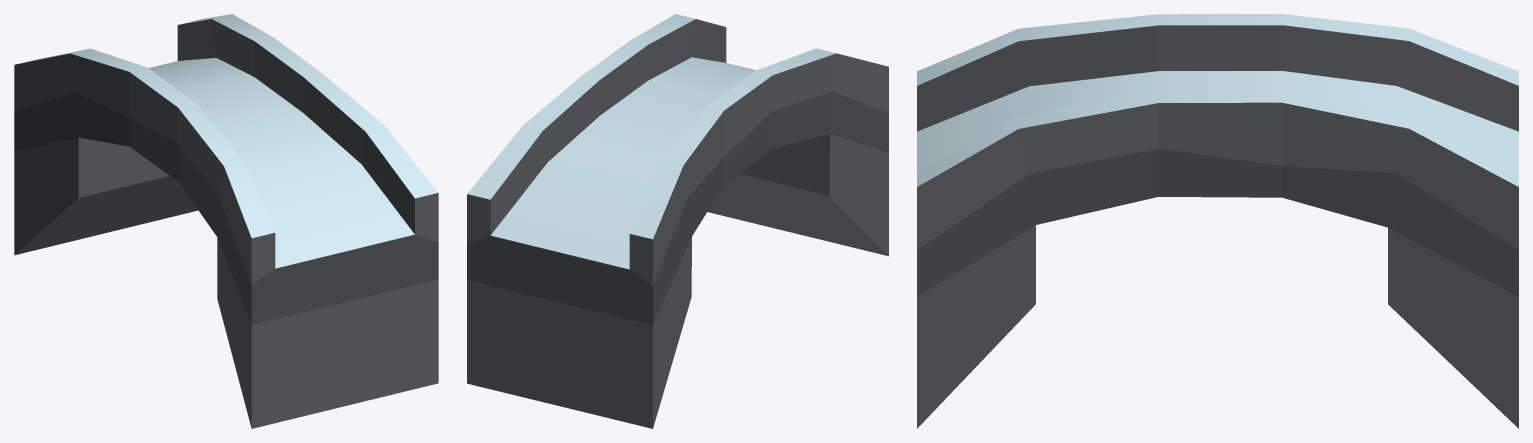
The model's file is SM_Prop_Generic_Bridge_01_Snow.fbx.
3 renders of one model, left to right at view 1: azimuth 30°, elevation 25°; view 2: azimuth 150°, elevation 25°; view 3: azimuth 270°, elevation 25°, orthographic. The views are drawn at different scales.
Parts seen in each view (by area): view 1: SM_Prop_Generic_Bridge_01_Snow; view 2: SM_Prop_Generic_Bridge_01_Snow; view 3: SM_Prop_Generic_Bridge_01_Snow.
Boxes of the visible parts, x1,y1,x2,y2 form: SM_Prop_Generic_Bridge_01_Snow: (14, 14, 438, 428); SM_Prop_Generic_Bridge_01_Snow: (467, 14, 888, 428); SM_Prop_Generic_Bridge_01_Snow: (917, 14, 1518, 428).
Bounding box in the file's own units: 236 × 297 × 518.
1 material, 1 textured.
